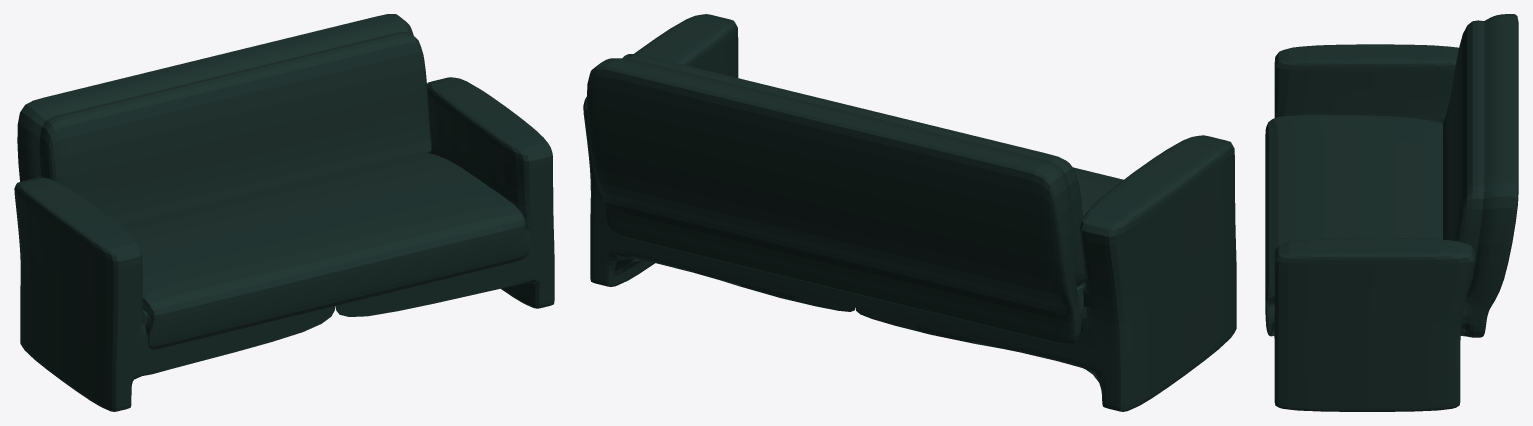
Rendered from Couch.fbx.
The picture shows the model from 3 angles, left to right: view 1: azimuth 30°, elevation 25°; view 2: azimuth 150°, elevation 25°; view 3: azimuth 270°, elevation 25°; orthographic projection. The views are drawn at different scales.
Visible parts, largest first — view 1: Couch; view 2: Couch; view 3: Couch.
Boxes of the visible parts, <box> form: Couch: <box>14,14,554,411</box>; Couch: <box>583,14,1236,411</box>; Couch: <box>1265,14,1518,411</box>.
Size of the model in its own units: 154 by 69.79 by 77.24.
